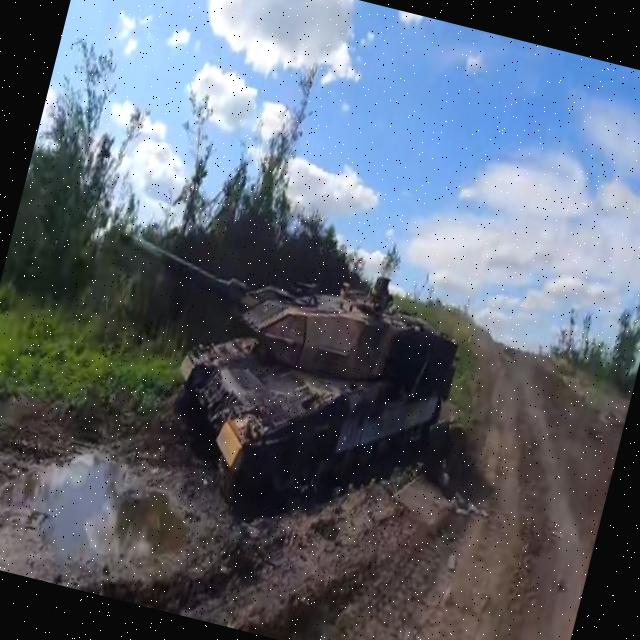MBT: (55, 207, 489, 561)
